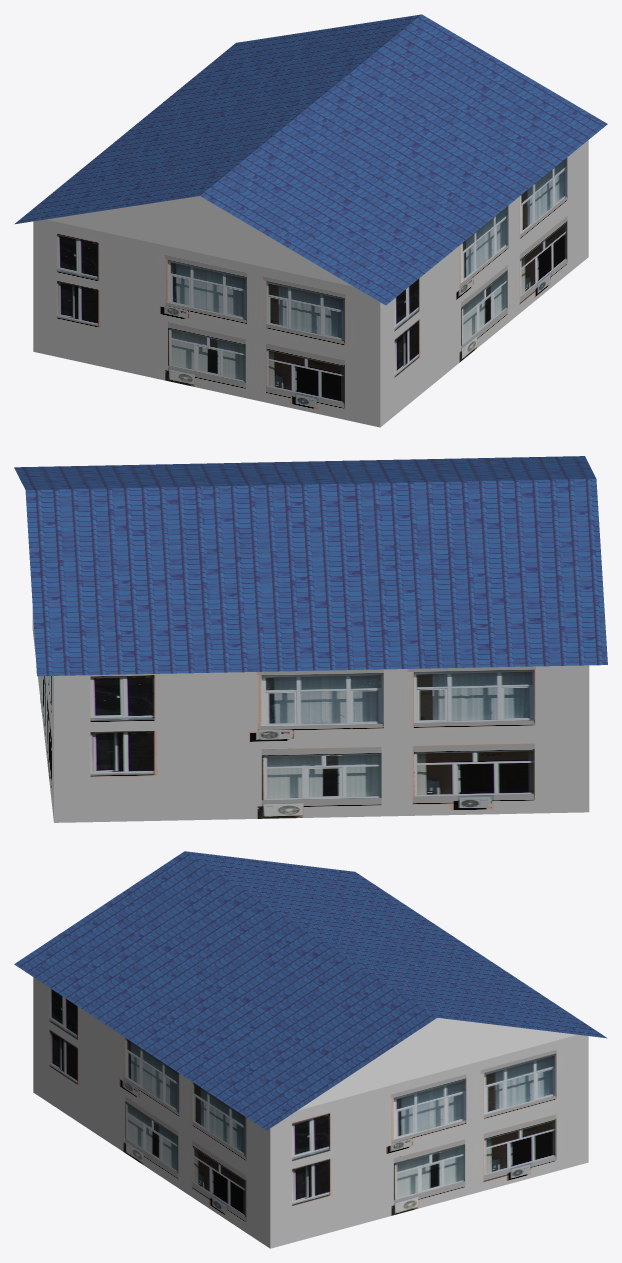
3 renders of one model, top to bottom at view 1: azimuth 30°, elevation 25°; view 2: azimuth 150°, elevation 25°; view 3: azimuth 270°, elevation 25°, orthographic. The views are drawn at different scales.
Visible parts, largest first — view 1: CityEngineMaterial_10_m, CityEngineMaterial_9_m, CityEngineMaterial_3_m; view 2: CityEngineMaterial_10_m, CityEngineMaterial_9_m; view 3: CityEngineMaterial_10_m, CityEngineMaterial_9_m, CityEngineMaterial_3_m.
Part boxes in pixels (x1=…): CityEngineMaterial_10_m: x1=14, y1=14, x2=607, y2=305; CityEngineMaterial_9_m: x1=33, y1=140, x2=588, y2=427; CityEngineMaterial_3_m: x1=46, y1=196, x2=353, y2=286; CityEngineMaterial_10_m: x1=14, y1=456, x2=607, y2=676; CityEngineMaterial_9_m: x1=32, y1=609, x2=589, y2=822; CityEngineMaterial_10_m: x1=14, y1=851, x2=607, y2=1130; CityEngineMaterial_9_m: x1=33, y1=977, x2=588, y2=1248; CityEngineMaterial_3_m: x1=297, y1=1018, x2=577, y2=1110.
Bounding box in the file's own units: 42.12 × 14.64 × 40.82.
